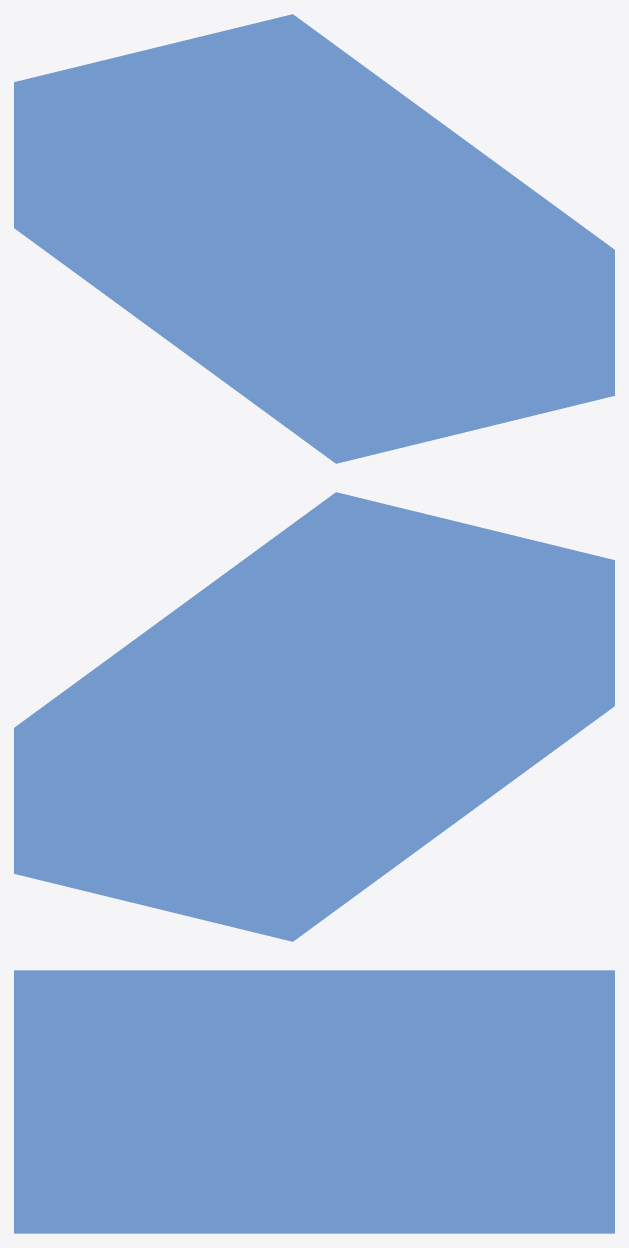
Rendered from deneme.glb.
The picture shows the model from 3 angles, top to bottom: view 1: azimuth 30°, elevation 25°; view 2: azimuth 150°, elevation 25°; view 3: azimuth 270°, elevation 25°; orthographic projection. The views are drawn at different scales.
Visible parts, largest first — view 1: COL_kutu; view 2: COL_kutu; view 3: COL_kutu.
Part boxes in pixels (x1=…): COL_kutu: x1=14, y1=14, x2=614, y2=463; COL_kutu: x1=14, y1=492, x2=614, y2=941; COL_kutu: x1=14, y1=970, x2=614, y2=1233.
Size of the model in its own units: 0.12 by 0.06 by 0.24.
